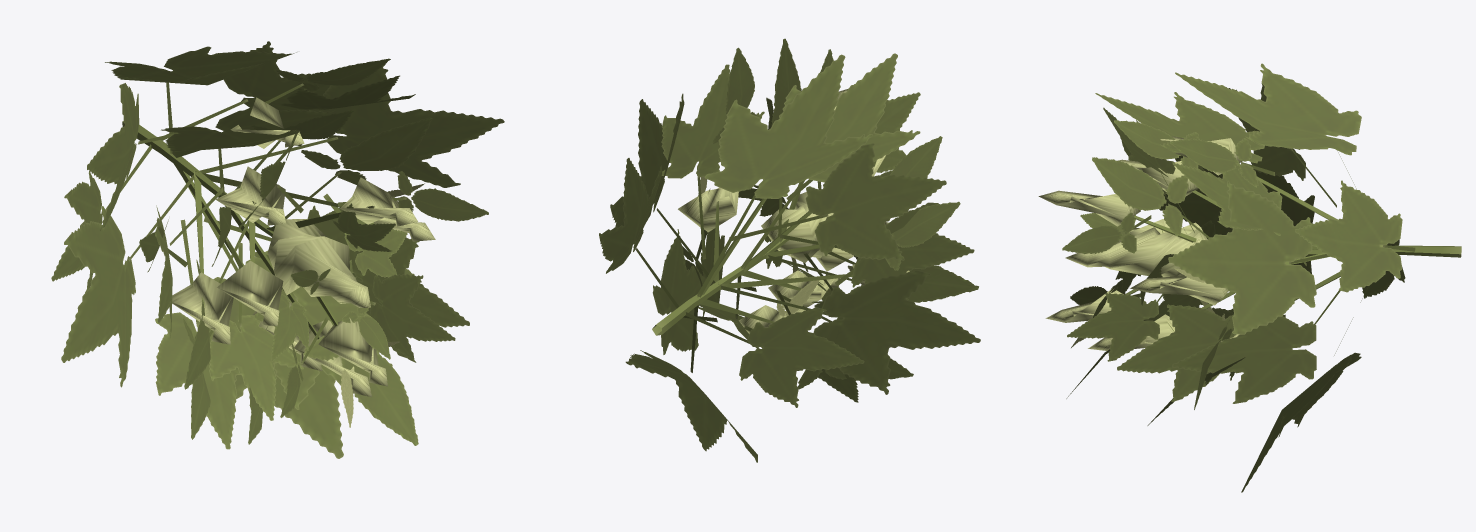
Rendered from p_frosty_afghan_flowering_c1_cards.obj.
The picture shows the model from 3 angles, left to right: view 1: azimuth 30°, elevation 25°; view 2: azimuth 150°, elevation 25°; view 3: azimuth 270°, elevation 25°; orthographic projection. The views are drawn at different scales.
Bounding box in the file's own units: 1.42 × 1.41 × 1.24.
Materials: 1 (1 with a texture image).
